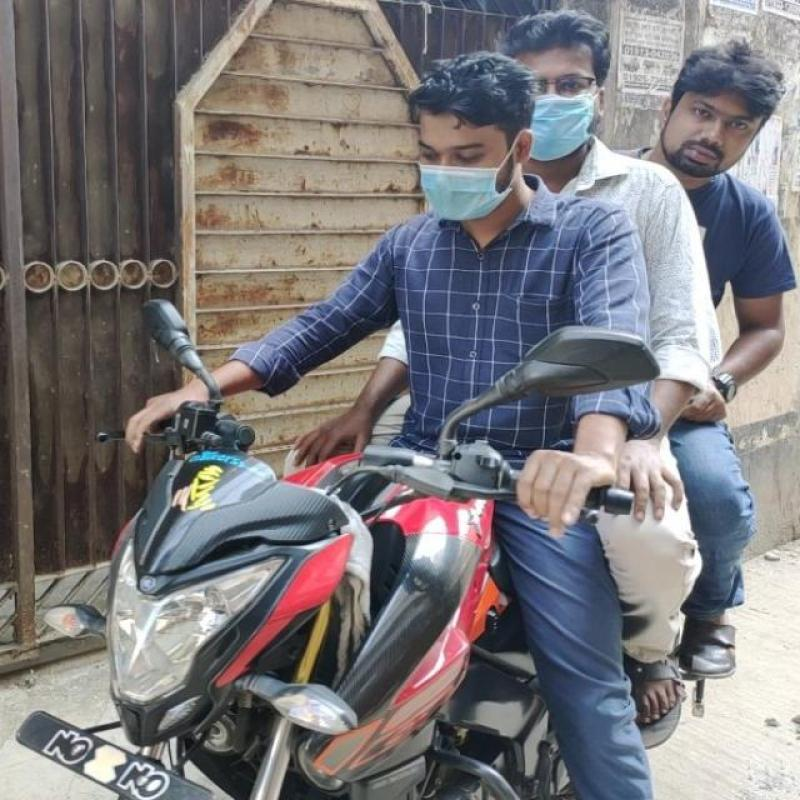nohelmet: (415, 54, 540, 205), (664, 42, 774, 188)
